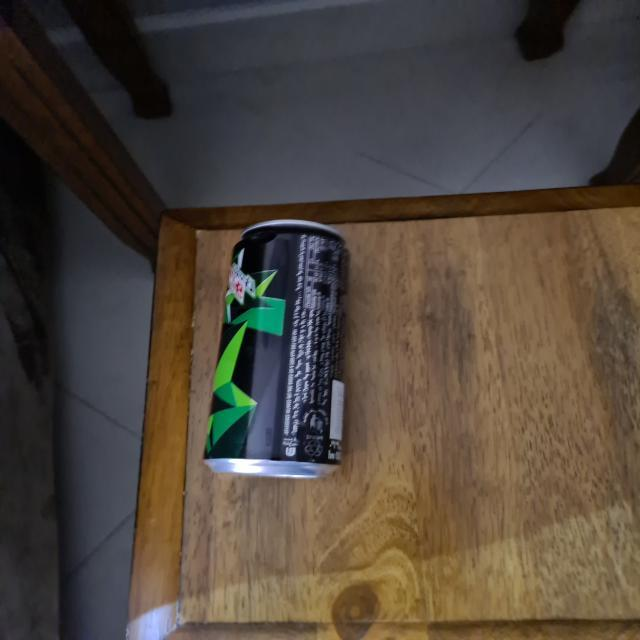can: (194, 219, 354, 483)
